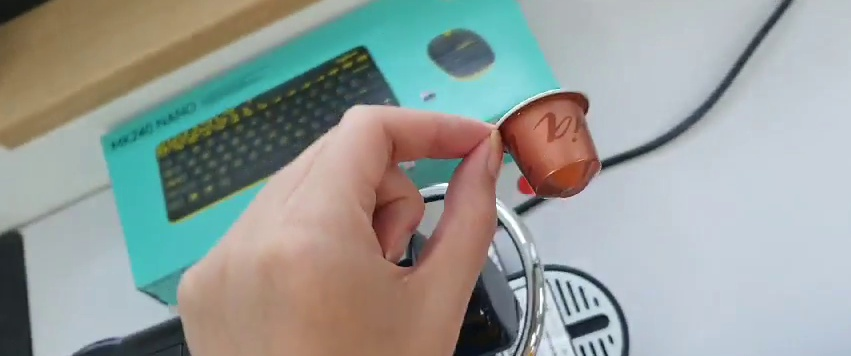capsule_6: (491, 88, 601, 198)
